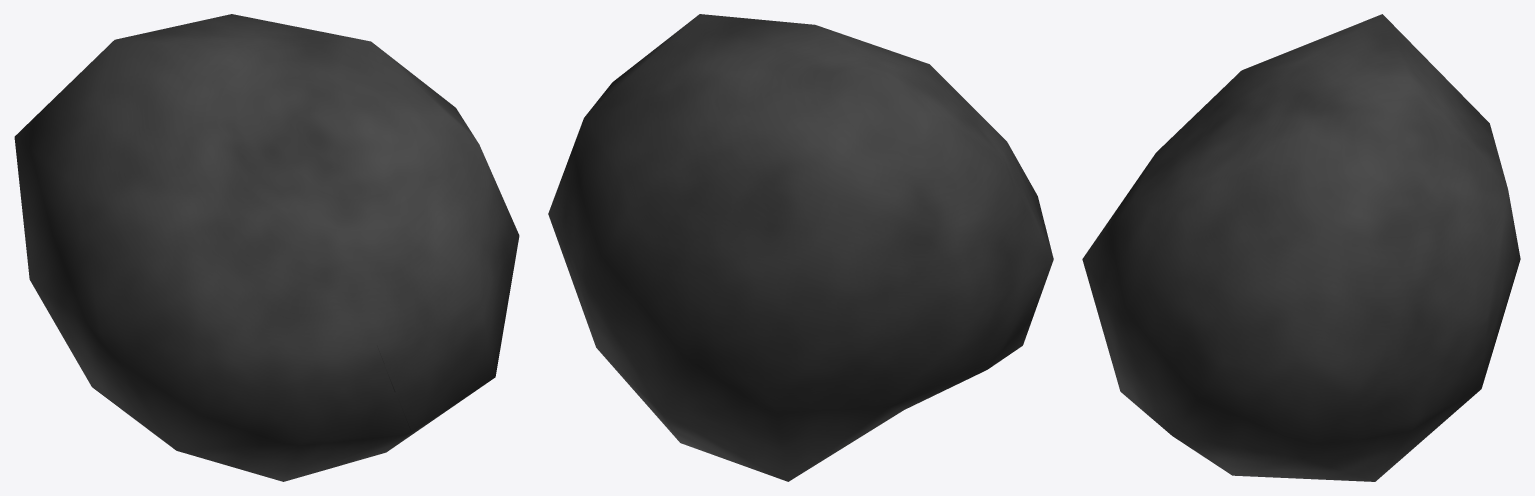
File: RockMedium2.fbx
The picture shows the model from 3 angles, left to right: view 1: azimuth 30°, elevation 25°; view 2: azimuth 150°, elevation 25°; view 3: azimuth 270°, elevation 25°; orthographic projection. The views are drawn at different scales.
Parts seen in each view (by area): view 1: RockMedium2; view 2: RockMedium2; view 3: RockMedium2.
Boxes of the visible parts, x1,y1,x2,y2 form: RockMedium2: (14,14,519,481); RockMedium2: (548,14,1053,481); RockMedium2: (1082,14,1520,481).
Bounding box in the file's own units: 103 × 96.91 × 101.
Materials: 1 (1 with a texture image).
